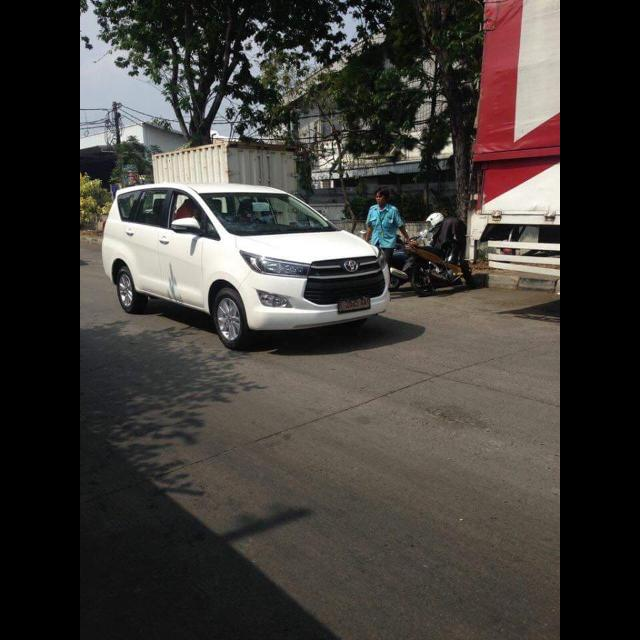vehicles: (102, 179, 404, 343)
